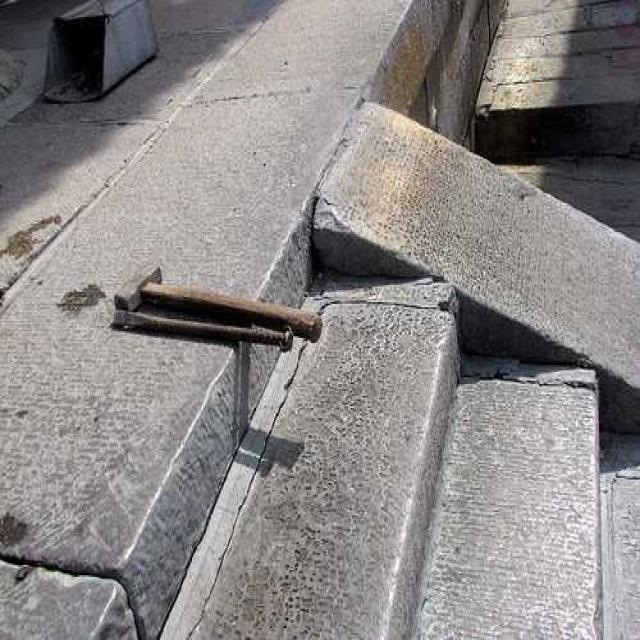hammer: (116, 256, 330, 358)
